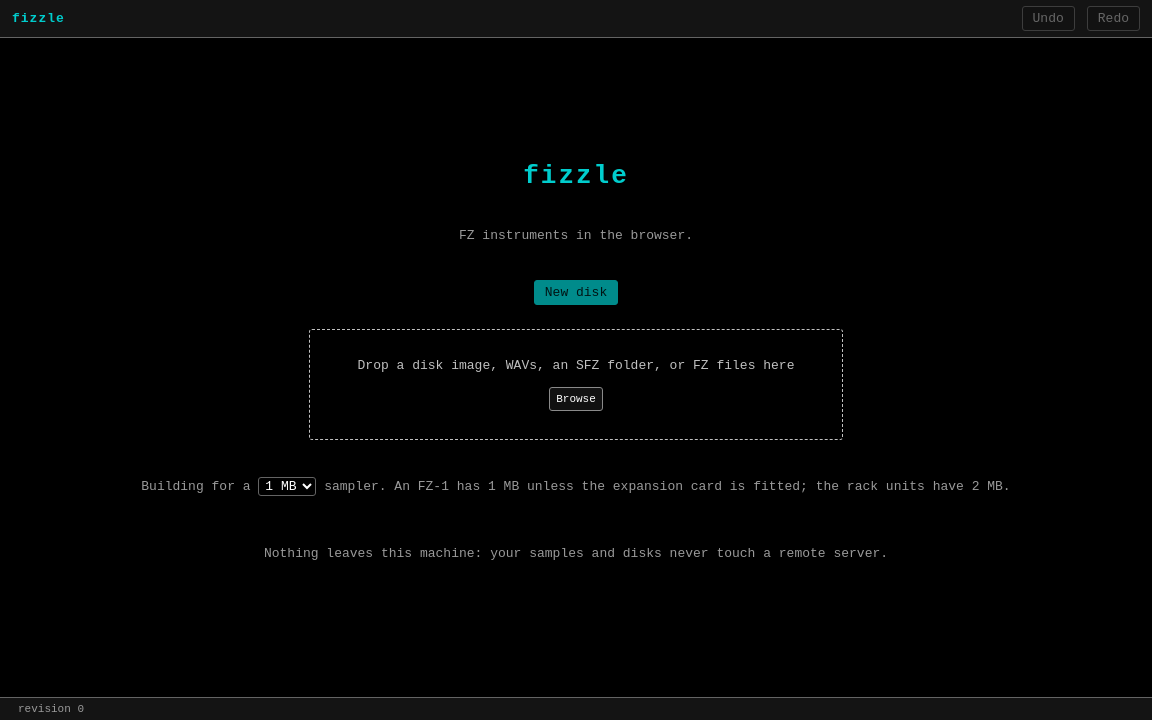
Test: fatal core failures › shows a recovery panel and never exposes the machine code
Click the button "New disk" at point(576, 292), box x1=534 y1=280 x2=618 y2=305
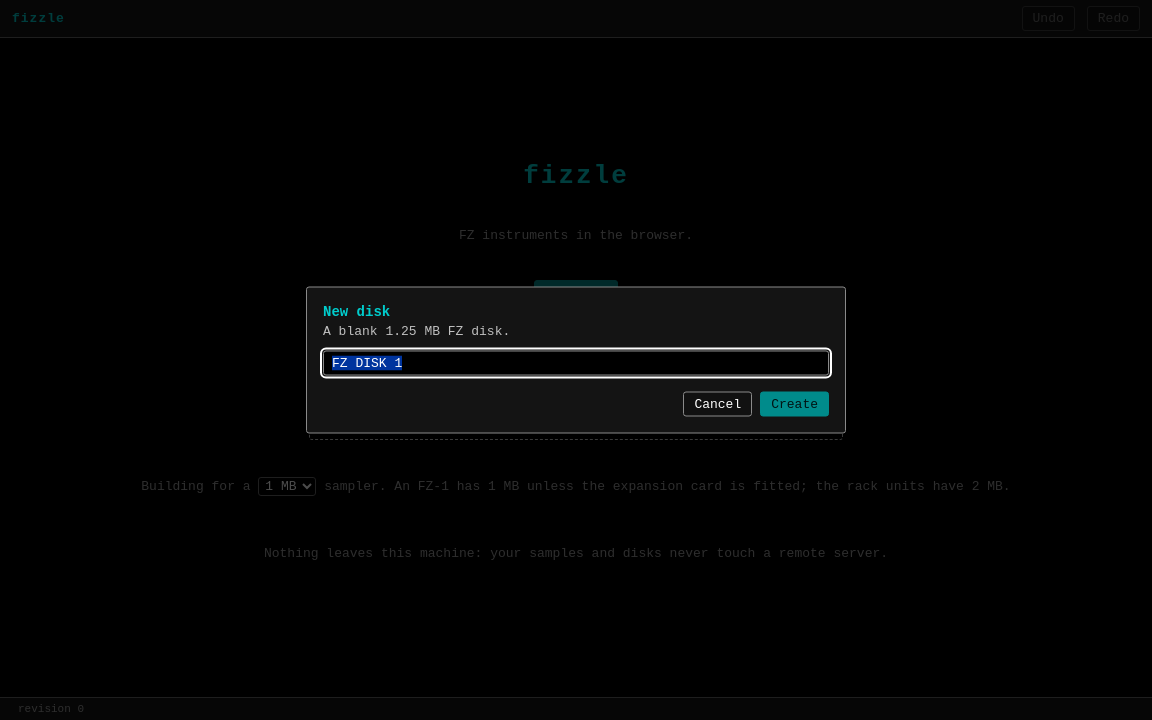
Click the button "Create" at point(795, 404), box x1=760 y1=392 x2=829 y2=416
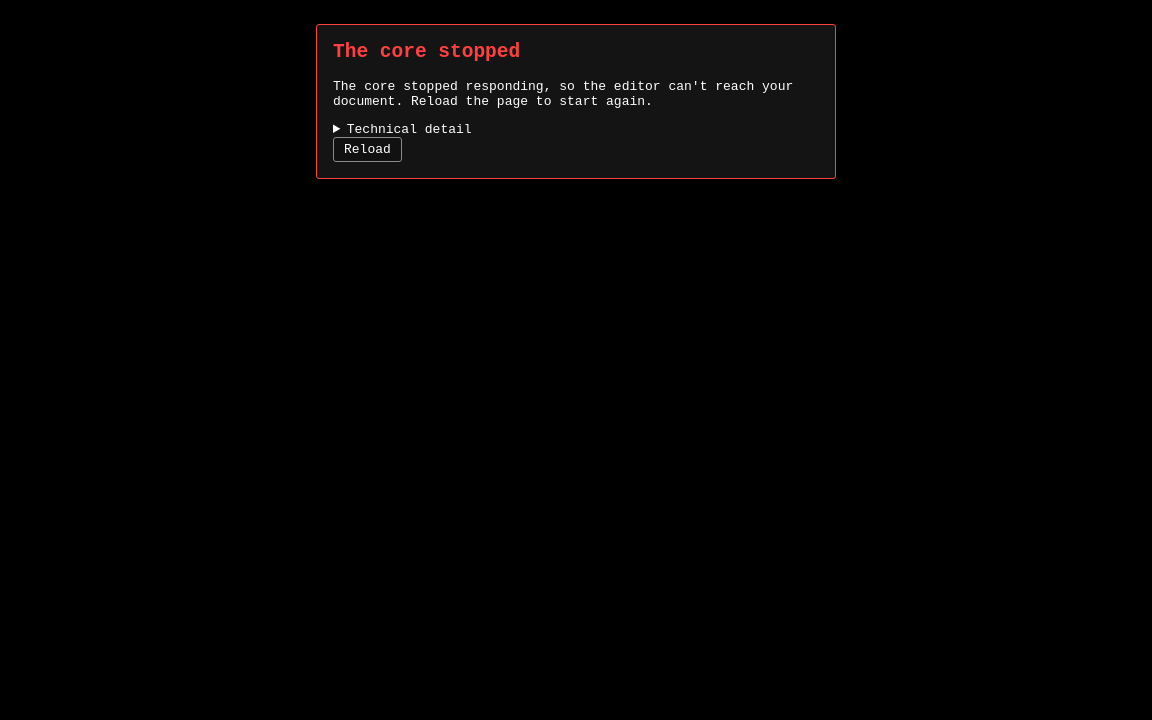
Result: the message named "core failure" shows "The core stopped responding, so the editor can't reach your document. Reload the page to start again." at x1=333 y1=79 x2=793 y2=109
Result: the button "Reload" is shown at x1=333 y1=137 x2=402 y2=162
